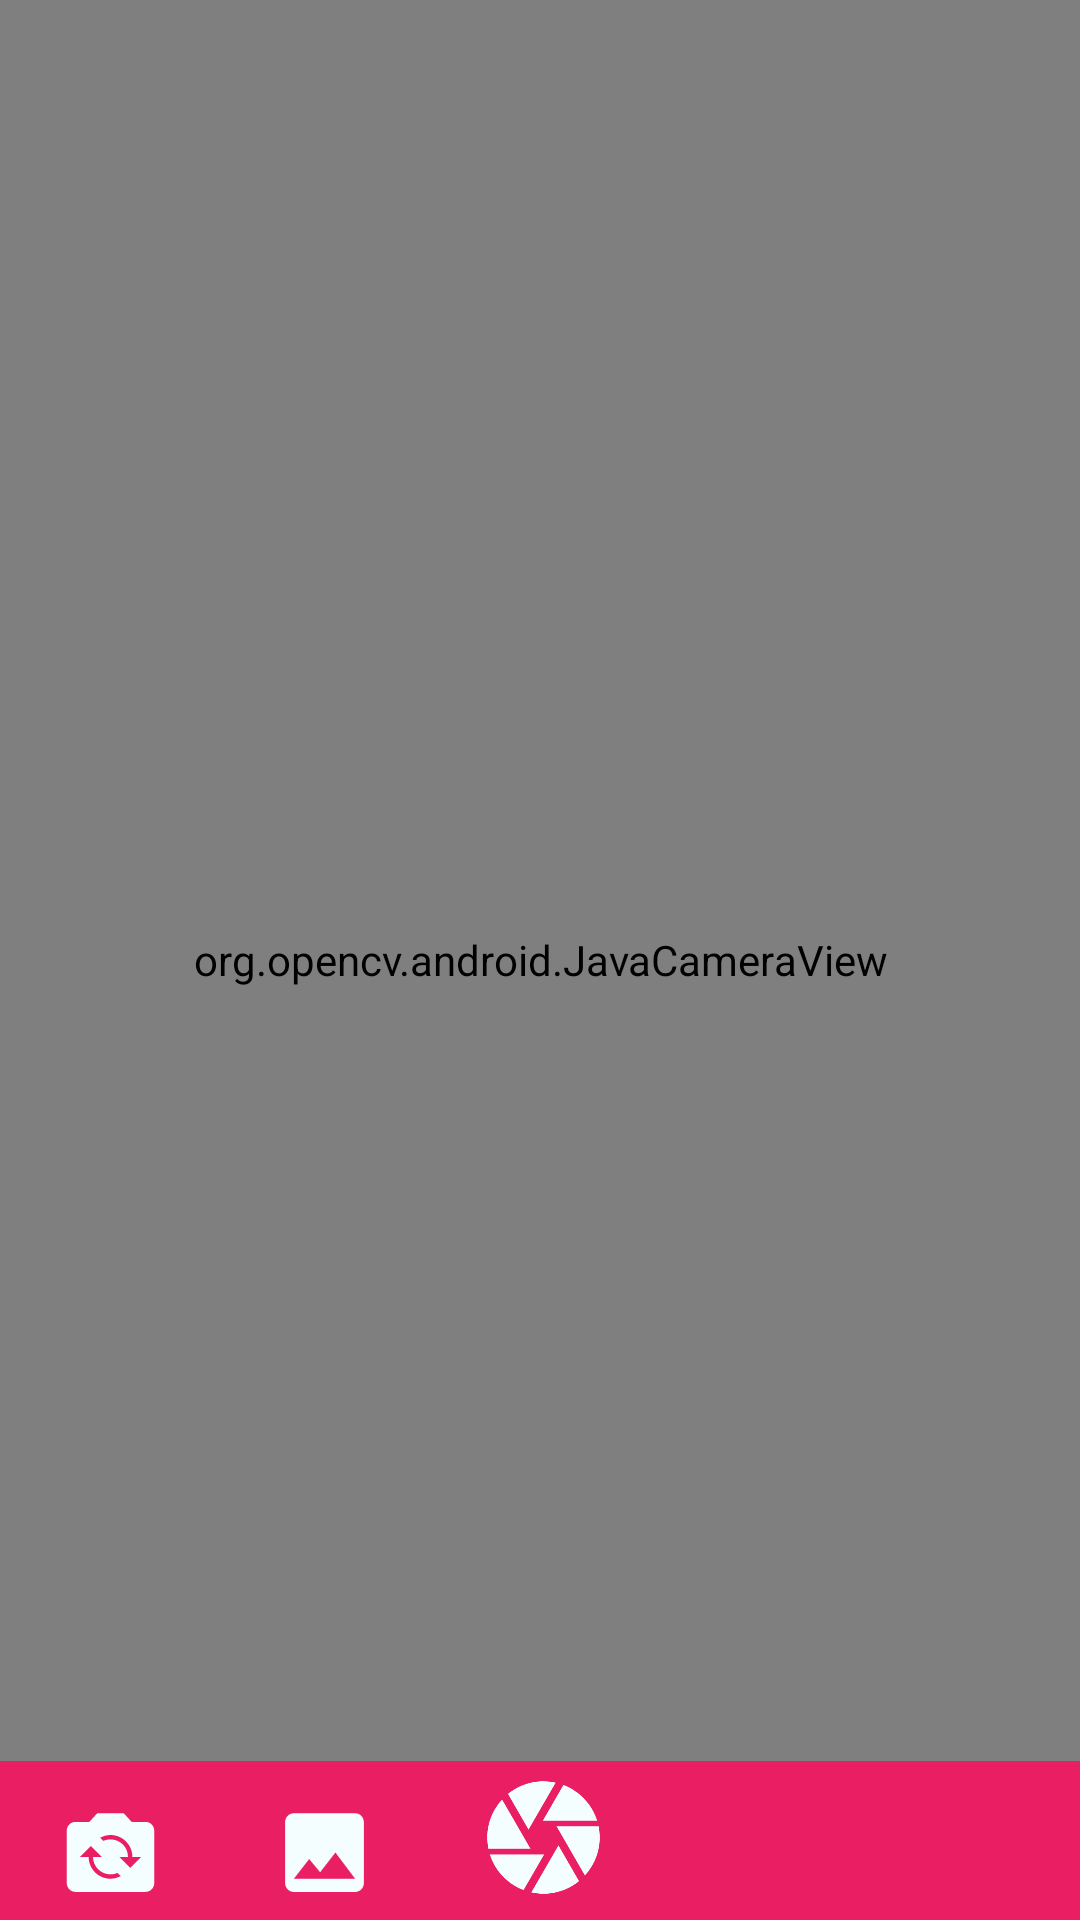

Where icons sit on this 1080px×1920px app screen, as (x1, y1, x2, y2):
gallry: (285, 1813, 364, 1892)
take picture: (487, 1781, 600, 1894)
